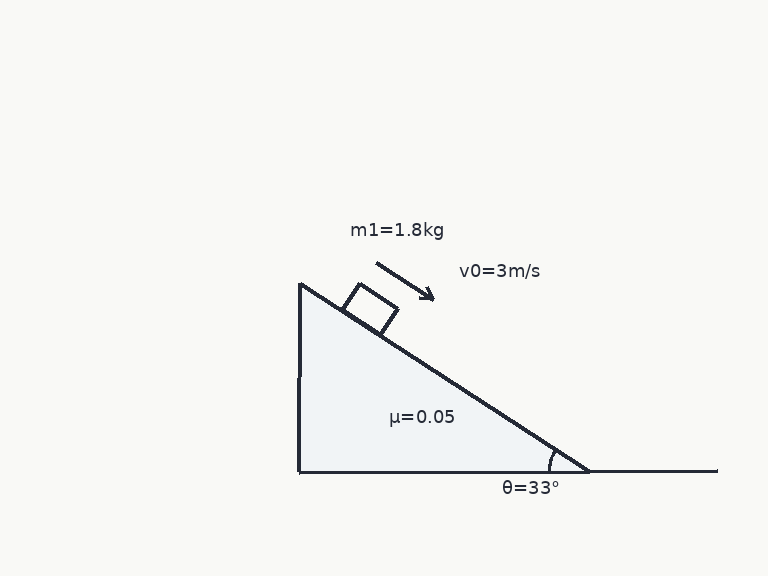block: (340, 281, 399, 337)
ramp: (298, 281, 591, 473)
